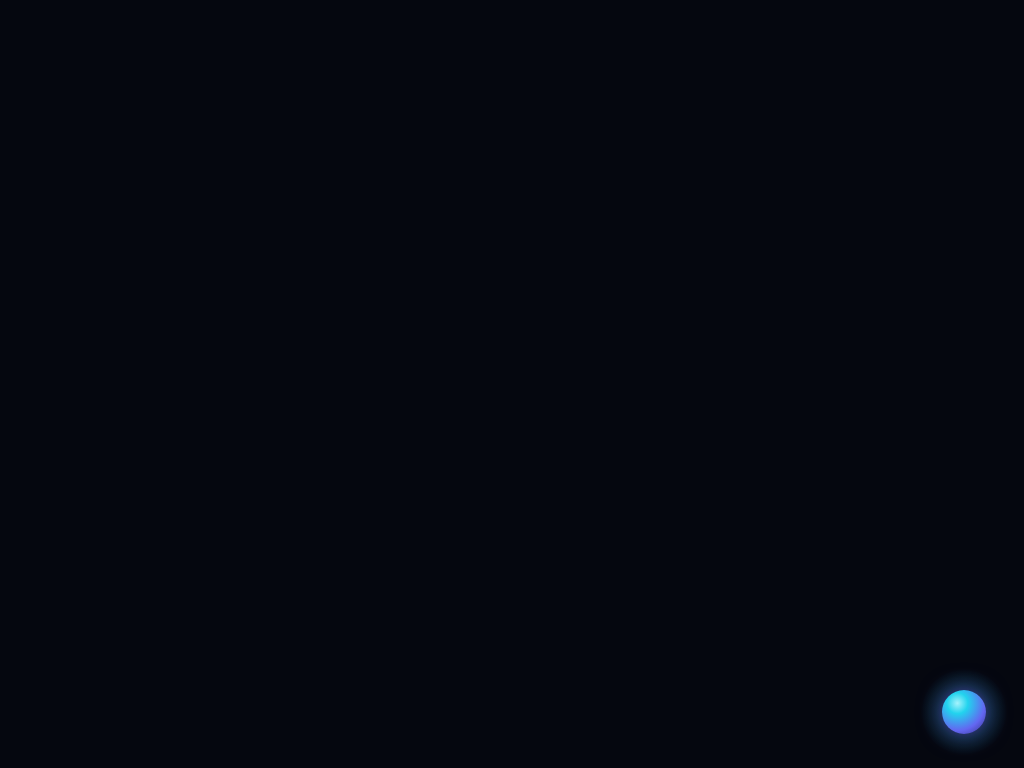
Test: Chatbot › starts closed, and the orb opens the terminal
Click the button named "Open chat".
click(964, 712)  # box [928,676,1000,748]
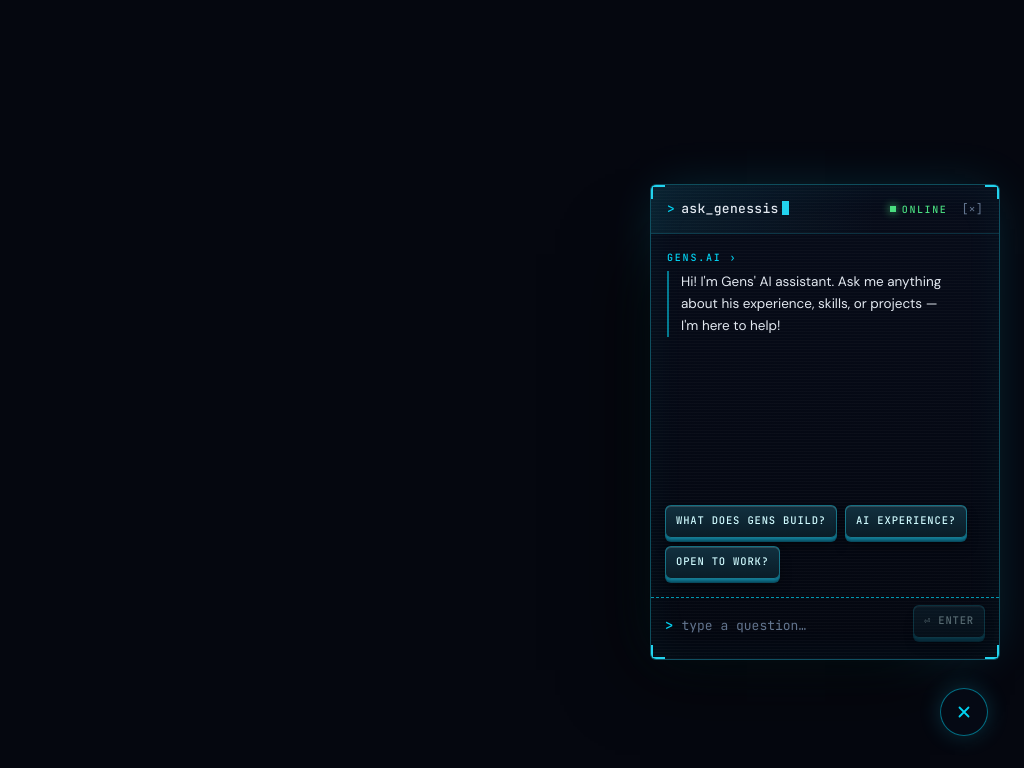
Expected: the dialog named "Ask about Genessis" is shown, [650,184,1000,660]
Expected: the button named "Close chat" is shown, [928,676,1000,748]
